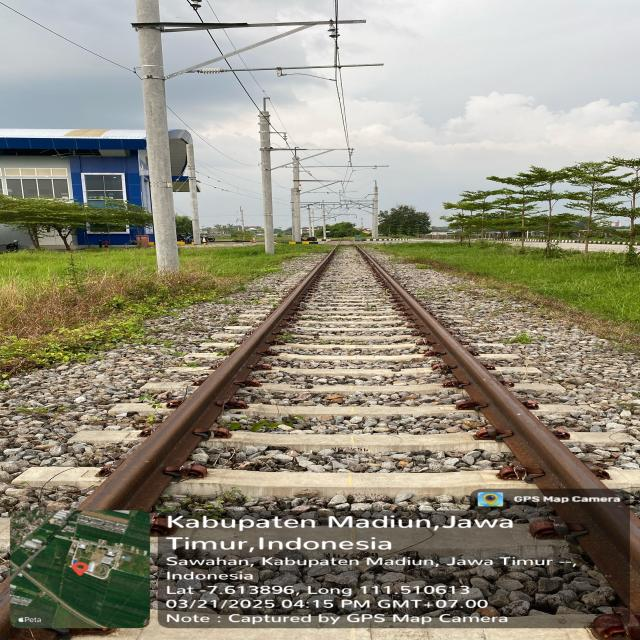rail-detection: (356, 246, 640, 609), (80, 251, 334, 510)
